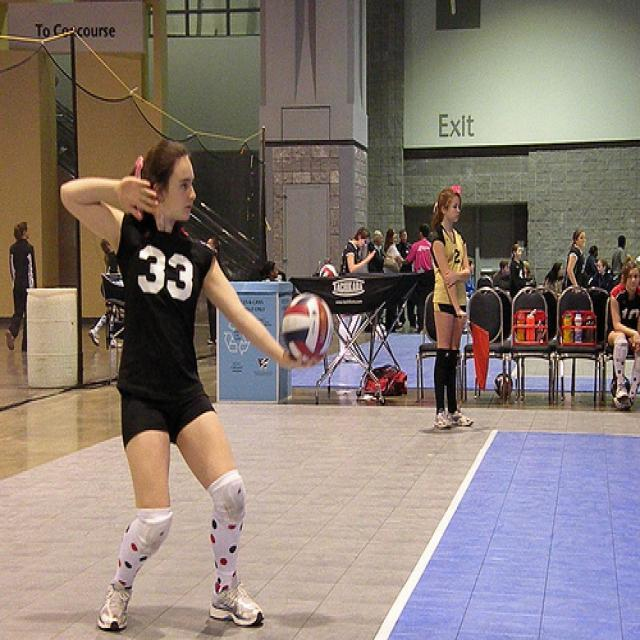volleyball: (282, 292, 333, 363), (320, 264, 340, 278)
